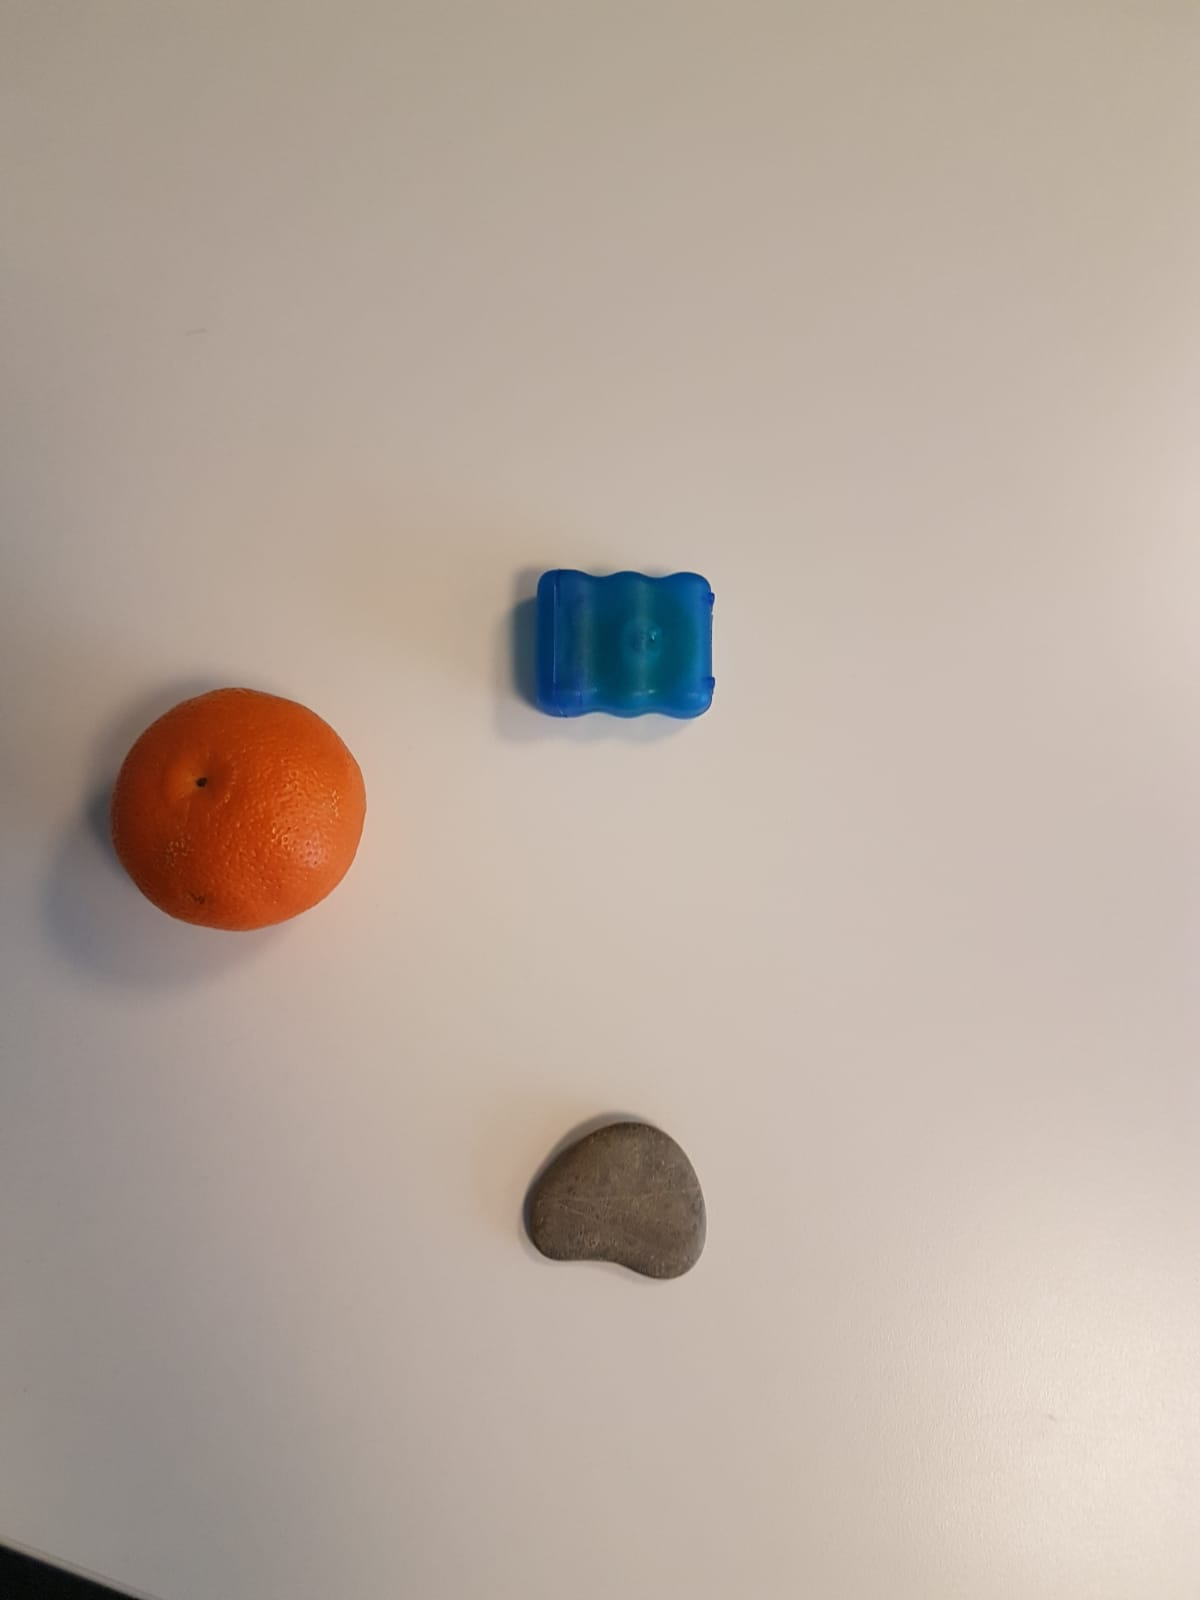Box: (528, 564, 718, 722)
Orange: (106, 687, 371, 930)
Stone: (517, 1123, 706, 1283)
